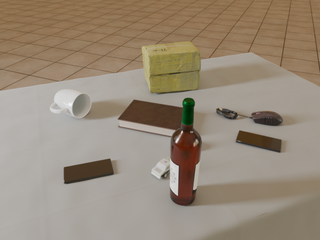book: (118, 100, 183, 137)
bottle: (170, 98, 202, 205)
box: (142, 41, 201, 93)
cup: (50, 89, 91, 118)
mouse: (249, 111, 283, 126)
phone: (64, 159, 114, 184), (236, 131, 282, 152)
toy_car: (151, 157, 170, 179)
